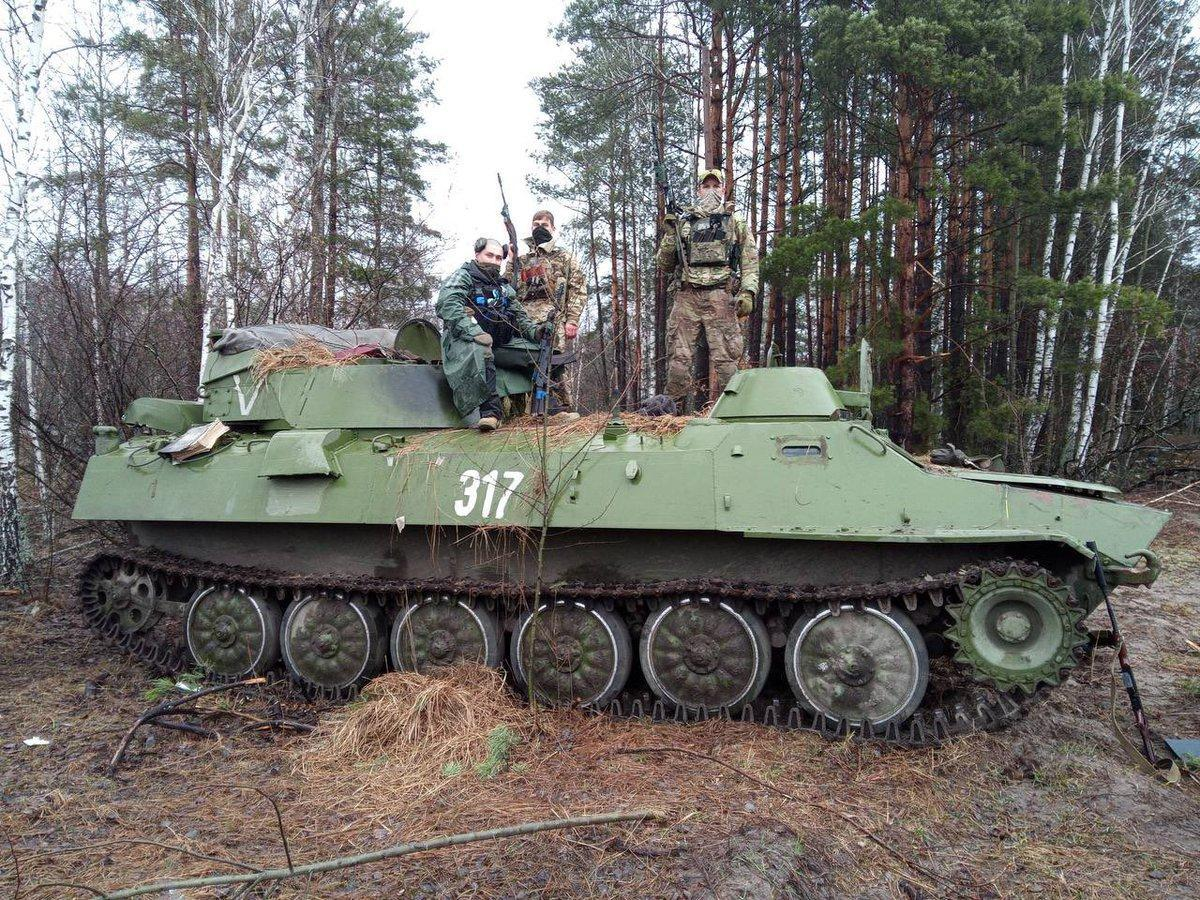person: (642, 165, 764, 417), (433, 235, 542, 418), (501, 208, 591, 410)
tank: (63, 324, 1174, 759)
